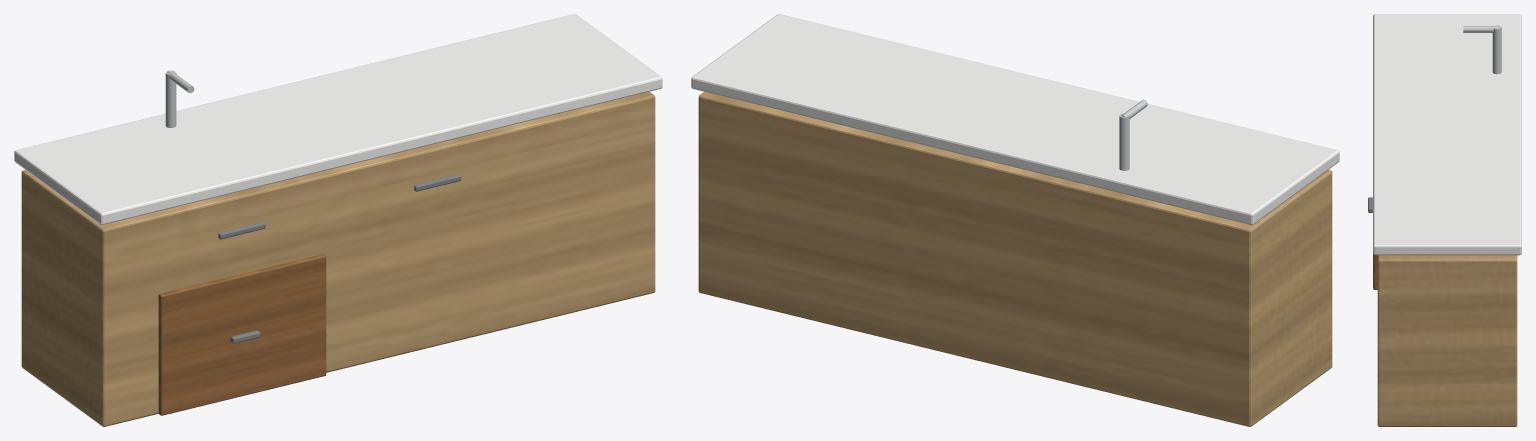
Rendered from counter.glb.
3 views of the same model, side by side, from view 1: azimuth 30°, elevation 25°; view 2: azimuth 150°, elevation 25°; view 3: azimuth 270°, elevation 25° (orthographic). The views are drawn at different scales.
Parts seen in each view (by area): view 1: body.001, top.001, part_cabDoor__counter, faucet; view 2: body.001, top.001, faucet; view 3: top.001, body.001, faucet, part_cabDoor__counter, spout.
Boxes of the visible parts, x1,y1,x2,y2 form: body.001: (21, 91, 655, 426); top.001: (14, 14, 662, 224); part_cabDoor__counter: (158, 254, 326, 415); faucet: (165, 70, 176, 127); body.001: (698, 91, 1332, 426); top.001: (691, 14, 1339, 224); faucet: (1119, 113, 1129, 170); top.001: (1373, 14, 1521, 255); body.001: (1377, 255, 1517, 426); faucet: (1492, 25, 1501, 74); part_cabDoor__counter: (1368, 197, 1377, 289); spout: (1463, 26, 1499, 32).
Size of the model in its own units: 2.44 by 1.13 by 0.6825.
8 materials, 4 textured.
